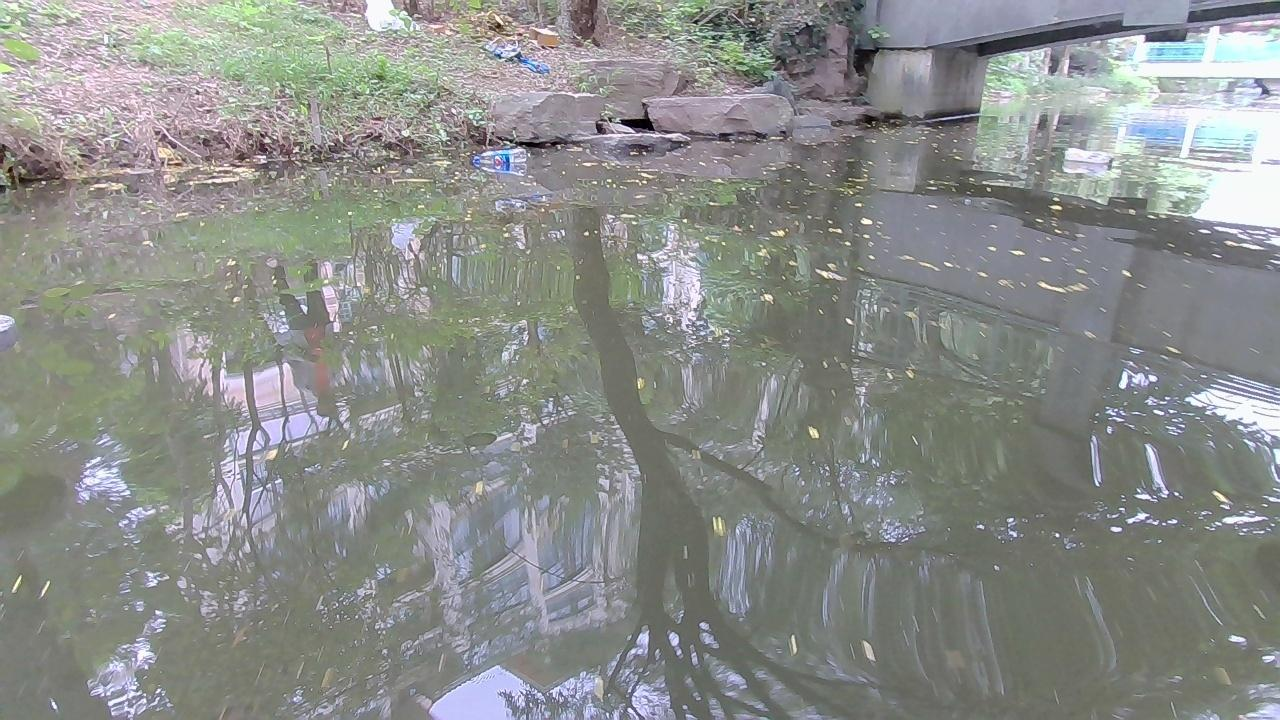bottle: (1057, 145, 1116, 164), (471, 146, 530, 164)
